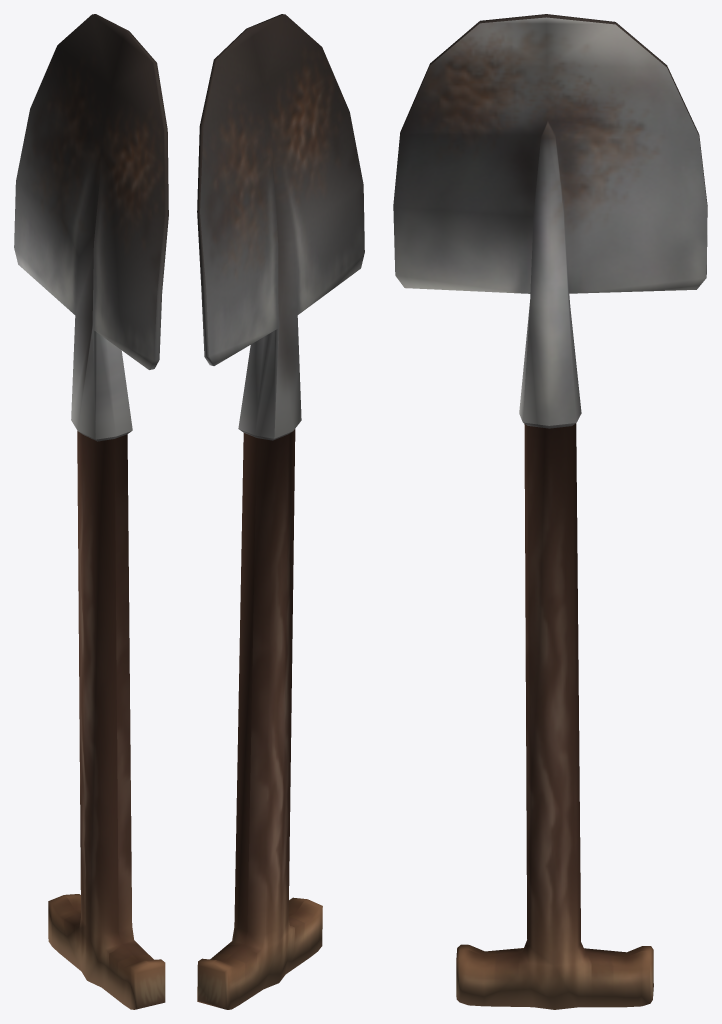
Rendered from Shovel.FBX.
3 renders of one model, left to right at view 1: azimuth 30°, elevation 25°; view 2: azimuth 150°, elevation 25°; view 3: azimuth 270°, elevation 25°, orthographic. The views are drawn at different scales.
Parts seen in each view (by area): view 1: Shovel; view 2: Shovel; view 3: Shovel.
Boxes of the visible parts, <box> form: Shovel: <box>14,14,168,1009</box>; Shovel: <box>197,14,364,1009</box>; Shovel: <box>393,14,707,1009</box>.
Bounding box in the file's own units: 0.0909 × 1.58 × 0.4522.
